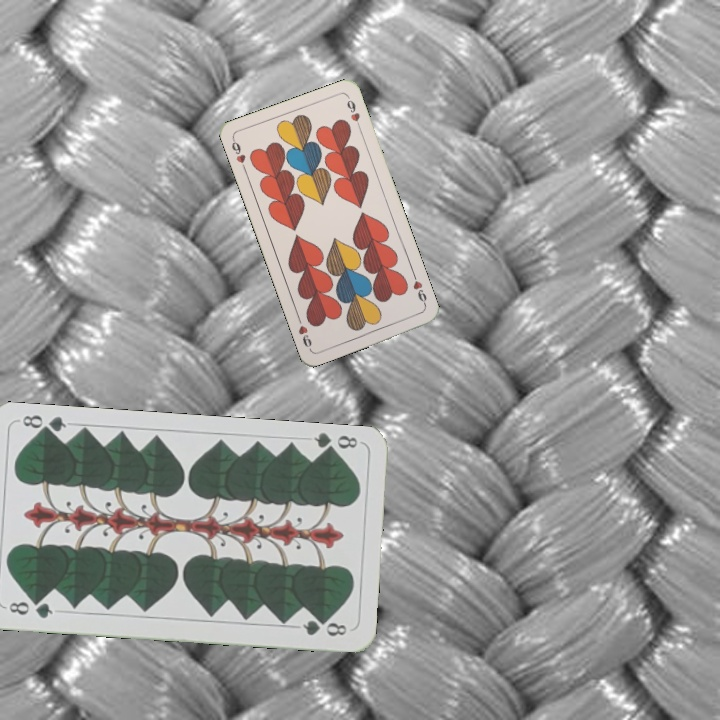G8: (310, 430, 360, 458), (2, 596, 56, 621)
H9: (227, 135, 249, 174), (409, 270, 429, 309)
